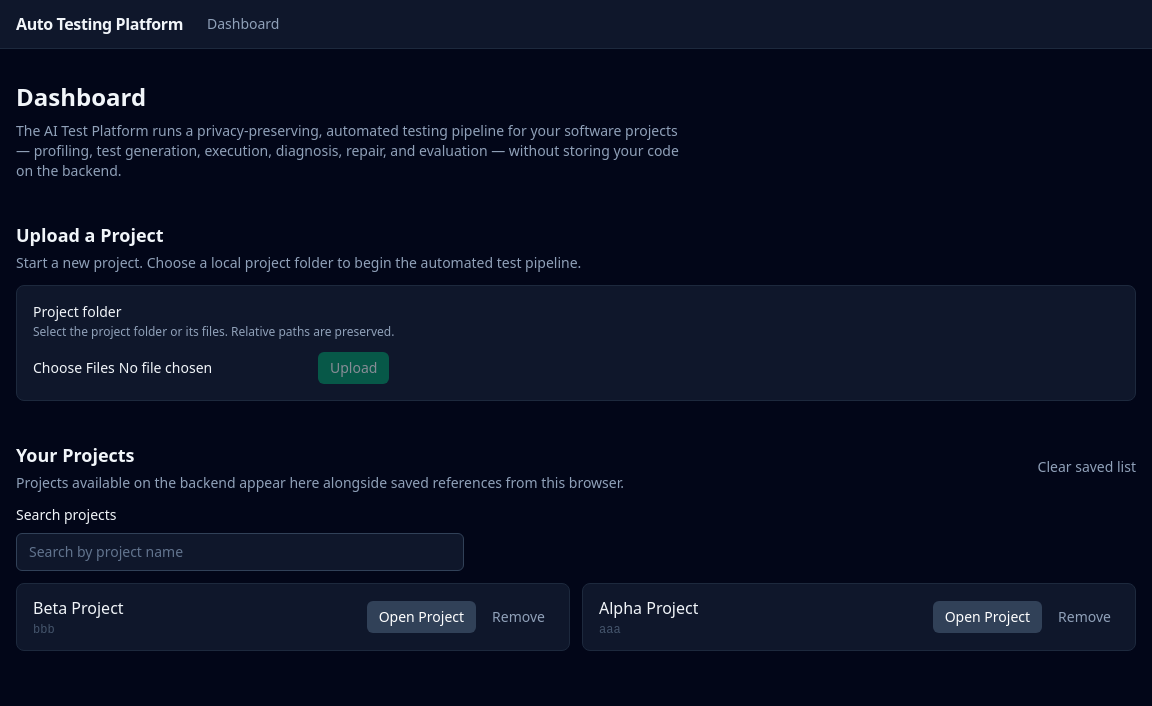
Scenario: DashboardPage › lists registered projects and opens one from its workspace
The image size is (1152, 706).
Expected: the text "Alpha Project" is shown, x1=599 y1=596 x2=698 y2=620
Expected: the text "Beta Project" is shown, x1=33 y1=596 x2=124 y2=620
What coordinates should you click on to do the following:
click the link "Open Project" in the row of "Beta Project"
I would click on:
 (421, 617)
Its box is x1=367 y1=601 x2=476 y2=633.
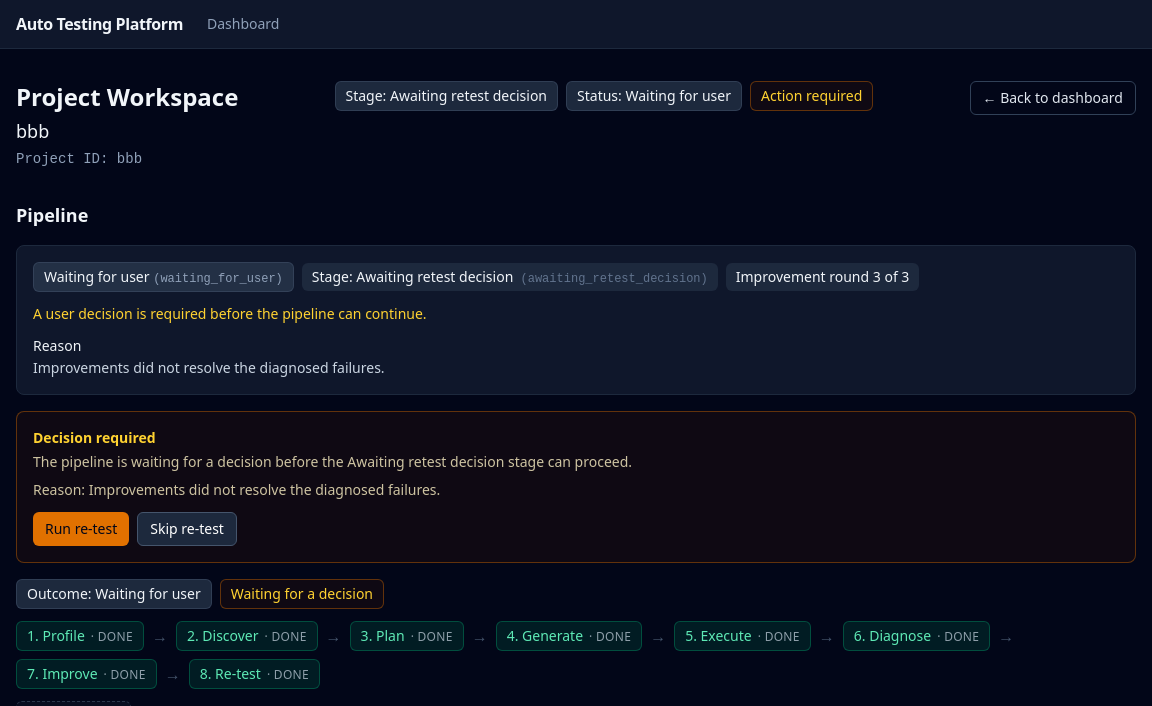
Expected: the heading "Project Workspace" is shown, x1=16 y1=81 x2=238 y2=113
Expected: the text "Project ID: bbb" is shown, x1=16 y1=151 x2=142 y2=167
